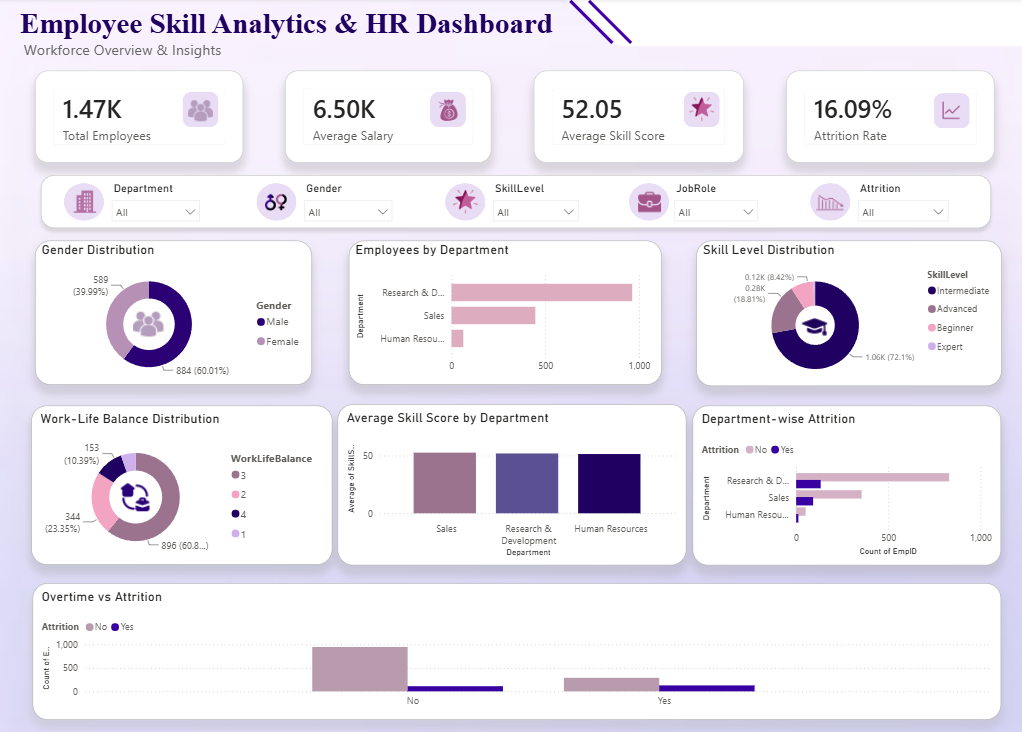

The page's visual inventory and layout, read from the dashboard file:
{"tool":"powerbi","page":{"name":"HR Analytics Dashboard ","canvas":[1322,950],"ordinal":0},"visuals":[{"type":"cardVisual","fields":{"Data":["HR_Analytics_Dashboard.Total Employees"]},"box":[44.5,93.6,269.1,119.1],"z":0},{"type":"cardVisual","fields":{"Data":["HR_Analytics_Dashboard.Average Salary"]},"box":[368.2,93.6,266.4,119.1],"z":1000},{"type":"cardVisual","fields":{"Data":["HR_Analytics_Dashboard.Average Skill Score"]},"box":[689.1,93.6,270.9,119.1],"z":2000},{"type":"cardVisual","fields":{"Data":["HR_Analytics_Dashboard.Attrition Rate"]},"box":[1014.5,93.6,269.1,119.1],"z":3000},{"type":"donutChart","title":"Gender Distribution","fields":{"Category":["HR_Analytics_Dashboard.Gender"],"Y":["CountNonNull(HR_Analytics_Dashboard.EmpID)"]},"box":[45,313.3,357.7,186.5],"z":4000},{"type":"clusteredBarChart","title":"Employees by Department","fields":{"Category":["HR_Analytics_Dashboard.Department"],"Y":["CountNonNull(HR_Analytics_Dashboard.EmpID)"]},"box":[450,313.3,404,186],"z":5000},{"type":"donutChart","title":"Skill Level Distribution","fields":{"Y":["CountNonNull(HR_Analytics_Dashboard.EmpID)"],"Category":["HR_Analytics_Dashboard.SkillLevel"]},"box":[898.3,313.3,394.4,188],"z":6000},{"type":"textbox","box":[21.7,6.7,903.3,76.7],"z":7000},{"type":"textbox","box":[26.2,48.5,315.7,38.6],"z":8000},{"type":"shape","box":[44.3,220.1,1244.8,86.8],"z":9000},{"type":"clusteredColumnChart","title":"Overtime vs Attrition","fields":{"Category":["HR_Analytics_Dashboard.OverTime"],"Y":["CountNonNull(HR_Analytics_Dashboard.EmpID)"],"Series":["HR_Analytics_Dashboard.Attrition"]},"box":[41.7,755,1250,176.7],"z":10000},{"type":"slicer","fields":{"Values":["HR_Analytics_Dashboard.Department"]},"box":[134.5,232.3,134.3,61.4],"z":11000},{"type":"slicer","fields":{"Values":["HR_Analytics_Dashboard.Gender"]},"box":[382.1,232.3,134.3,61.4],"z":12000},{"type":"slicer","fields":{"Values":["HR_Analytics_Dashboard.SkillLevel"]},"box":[626.7,232.3,130.8,61.1],"z":13000},{"type":"slicer","fields":{"Values":["HR_Analytics_Dashboard.JobRole"]},"box":[860.6,232.3,128.6,61.4],"z":14000},{"type":"slicer","fields":{"Values":["HR_Analytics_Dashboard.Attrition"]},"box":[1097.5,232.3,137,61.1],"z":15000},{"type":"shape","box":[791.8,0,530.4,62.7],"z":16000},{"type":"shape","box":[730,0,69.7,62.4],"z":17000},{"type":"shape","box":[759.4,24.5,80.7,42.8],"z":18000},{"type":"shape","box":[742.3,11,89.3,42.8],"z":19000},{"type":"shape","box":[706.8,0,103.9,53.8],"z":20000},{"type":"shape","box":[235,120.8,46.7,45.8],"z":21000},{"type":"shape","box":[555.8,121.7,46.7,45.8],"z":22000},{"type":"shape","box":[882.4,120.6,46.7,45.8],"z":23000},{"type":"shape","box":[1205,121.9,46.7,45.8],"z":24000},{"type":"image","box":[241.7,128.3,33.3,32.5],"z":25000},{"type":"image","box":[170,401.3,43.8,38.8],"z":26000},{"type":"image","box":[1034.3,401.3,34.1,45.9],"z":27000},{"type":"shape","box":[82.2,238.9,52.2,48.9],"z":28000},{"type":"shape","box":[330,238.9,52.2,48.9],"z":29000},{"type":"shape","box":[574.4,238.9,52.2,48.9],"z":30000},{"type":"shape","box":[811.1,238.9,52.2,48.9],"z":31000},{"type":"shape","box":[1045.6,238.9,52.2,48.9],"z":32000},{"type":"image","box":[90,248.6,37.8,28.9],"z":33000},{"type":"image","box":[882.7,127.3,46.7,31.7],"z":34000},{"type":"image","box":[577.8,246.7,46.7,31.7],"z":35000},{"type":"donutChart","title":"Work-Life Balance Distribution","fields":{"Category":["HR_Analytics_Dashboard.WorkLifeBalance"],"Y":["CountNonNull(HR_Analytics_Dashboard.EmpID)"]},"box":[40,525.7,388.6,205.7],"z":36000},{"type":"clusteredBarChart","title":"Department-wise Attrition","fields":{"Category":["HR_Analytics_Dashboard.Department"],"Series":["HR_Analytics_Dashboard.Attrition"],"Y":["CountNonNull(HR_Analytics_Dashboard.EmpID)"]},"box":[893.8,526.2,398.8,206],"z":37000},{"type":"clusteredColumnChart","title":"Average Skill Score by Department","fields":{"Category":["HR_Analytics_Dashboard.Department"],"Y":["Avg(HR_Analytics_Dashboard.SkillScore)"]},"box":[435,525,450,208.3],"z":38000},{"type":"image","box":[564.4,131.1,27.8,27.8],"z":39000},{"type":"image","box":[1215.6,102.2,25.6,86.7],"z":40000},{"type":"image","box":[822.2,248.9,31.5,29.2],"z":41000},{"type":"image","box":[342.1,243.7,27.9,40],"z":42000},{"type":"image","box":[1053.8,185,35,156.2],"z":43000},{"type":"image","box":[151.8,611.8,45.5,65.5],"z":44000},{"type":"shape","box":[733.3,0,58.3,61.7],"z":45000},{"type":"shape","box":[757.8,0,58.3,61.7],"z":46000}]}

Visuals, with their boxes in screenshot pixels (x1, y1, x2, y2), scaled from the page's 1322x950 canvas onto the 1022x732 screenshot:
cardVisual - HR_Analytics_Dashboard.Total Employees: left=34, top=72, right=242, bottom=164
cardVisual - HR_Analytics_Dashboard.Average Salary: left=285, top=72, right=491, bottom=164
cardVisual - HR_Analytics_Dashboard.Average Skill Score: left=533, top=72, right=742, bottom=164
cardVisual - HR_Analytics_Dashboard.Attrition Rate: left=784, top=72, right=992, bottom=164
"Gender Distribution" donutChart: left=35, top=241, right=311, bottom=385
"Employees by Department" clusteredBarChart: left=348, top=241, right=660, bottom=385
"Skill Level Distribution" donutChart: left=694, top=241, right=999, bottom=386
textbox: left=17, top=5, right=715, bottom=64
textbox: left=20, top=37, right=264, bottom=67
shape: left=34, top=170, right=997, bottom=236
"Overtime vs Attrition" clusteredColumnChart: left=32, top=582, right=999, bottom=718
slicer - HR_Analytics_Dashboard.Department: left=104, top=179, right=208, bottom=226
slicer - HR_Analytics_Dashboard.Gender: left=295, top=179, right=399, bottom=226
slicer - HR_Analytics_Dashboard.SkillLevel: left=484, top=179, right=586, bottom=226
slicer - HR_Analytics_Dashboard.JobRole: left=665, top=179, right=765, bottom=226
slicer - HR_Analytics_Dashboard.Attrition: left=848, top=179, right=954, bottom=226
shape: left=612, top=0, right=1021, bottom=48
shape: left=564, top=0, right=618, bottom=48
shape: left=587, top=19, right=649, bottom=52
shape: left=574, top=8, right=643, bottom=41
shape: left=546, top=0, right=627, bottom=41
shape: left=182, top=93, right=218, bottom=128
shape: left=430, top=94, right=466, bottom=129
shape: left=682, top=93, right=718, bottom=128
shape: left=932, top=94, right=968, bottom=129
image: left=187, top=99, right=213, bottom=124
image: left=131, top=309, right=165, bottom=339
image: left=800, top=309, right=826, bottom=345
shape: left=64, top=184, right=104, bottom=222
shape: left=255, top=184, right=295, bottom=222
shape: left=444, top=184, right=484, bottom=222
shape: left=627, top=184, right=667, bottom=222
shape: left=808, top=184, right=849, bottom=222
image: left=70, top=192, right=99, bottom=214
image: left=682, top=98, right=718, bottom=123
image: left=447, top=190, right=483, bottom=215
"Work-Life Balance Distribution" donutChart: left=31, top=405, right=331, bottom=564
"Department-wise Attrition" clusteredBarChart: left=691, top=405, right=999, bottom=564
"Average Skill Score by Department" clusteredColumnChart: left=336, top=405, right=684, bottom=565
image: left=436, top=101, right=458, bottom=122
image: left=940, top=79, right=960, bottom=146
image: left=636, top=192, right=660, bottom=214
image: left=264, top=188, right=286, bottom=219
image: left=815, top=143, right=842, bottom=263
image: left=117, top=471, right=153, bottom=522
shape: left=567, top=0, right=612, bottom=48
shape: left=586, top=0, right=631, bottom=48
